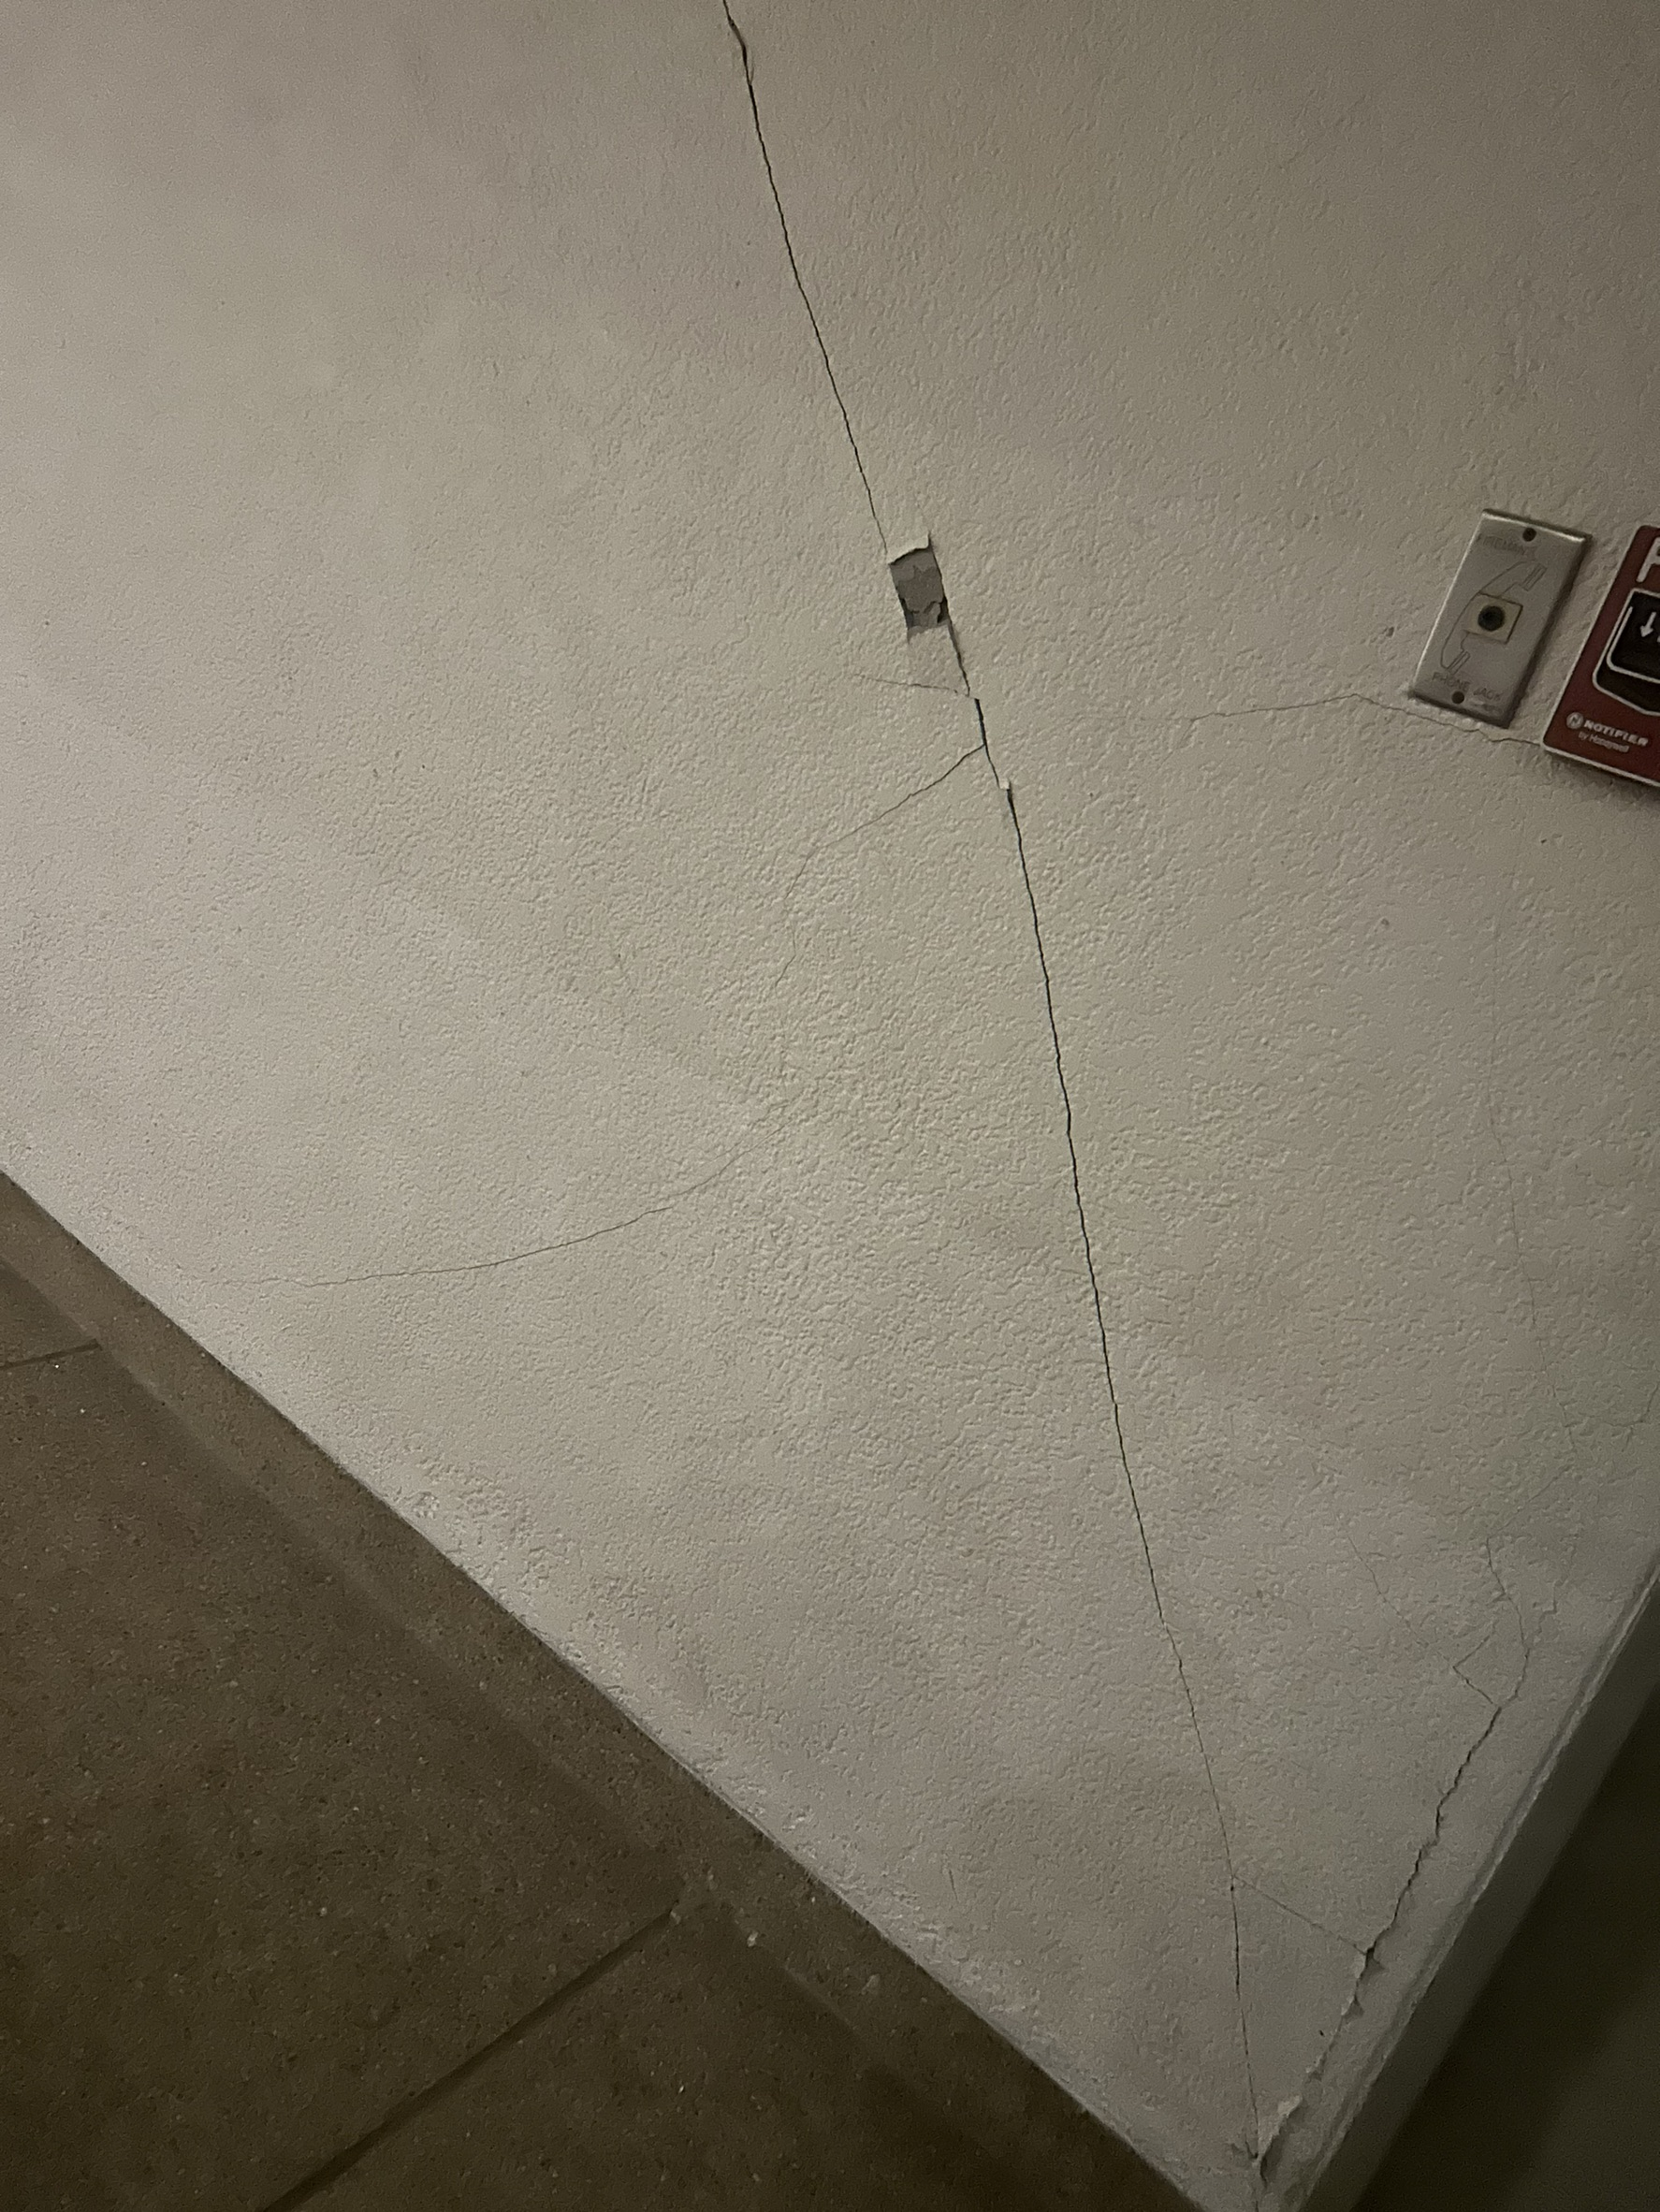Low: (295, 2, 1283, 2212)
